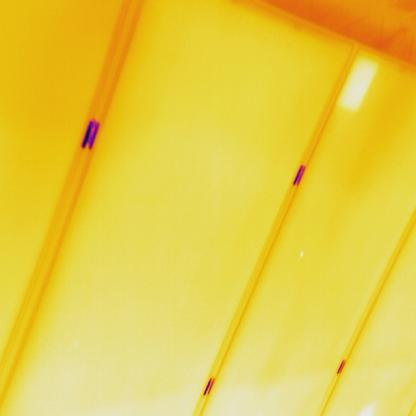hotspot: (334, 51, 382, 116)
